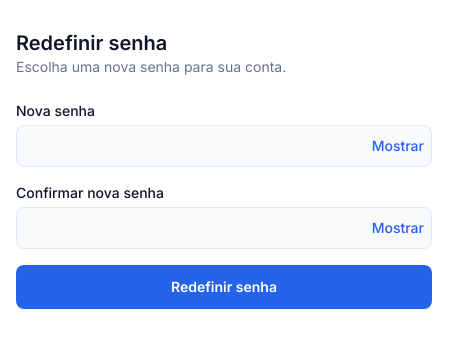
Test: RedefinirSenha › mostra o indicador de forca conforme a nova senha e digitada
The image size is (449, 344).
Check: the text "Força da senha" is not shown
Type "NovaSenha@2026" into the password field labelled "Nova senha" at [224, 146], box [16, 125, 432, 167]
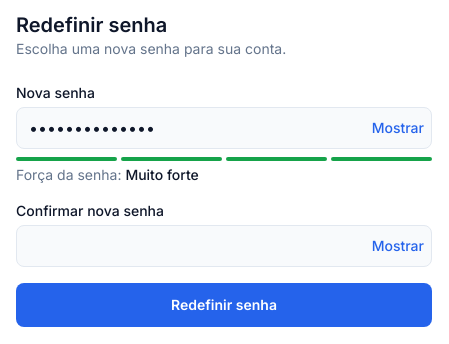
Check: the text "Força da senha: Muito forte" is shown, box [16, 166, 199, 183]
